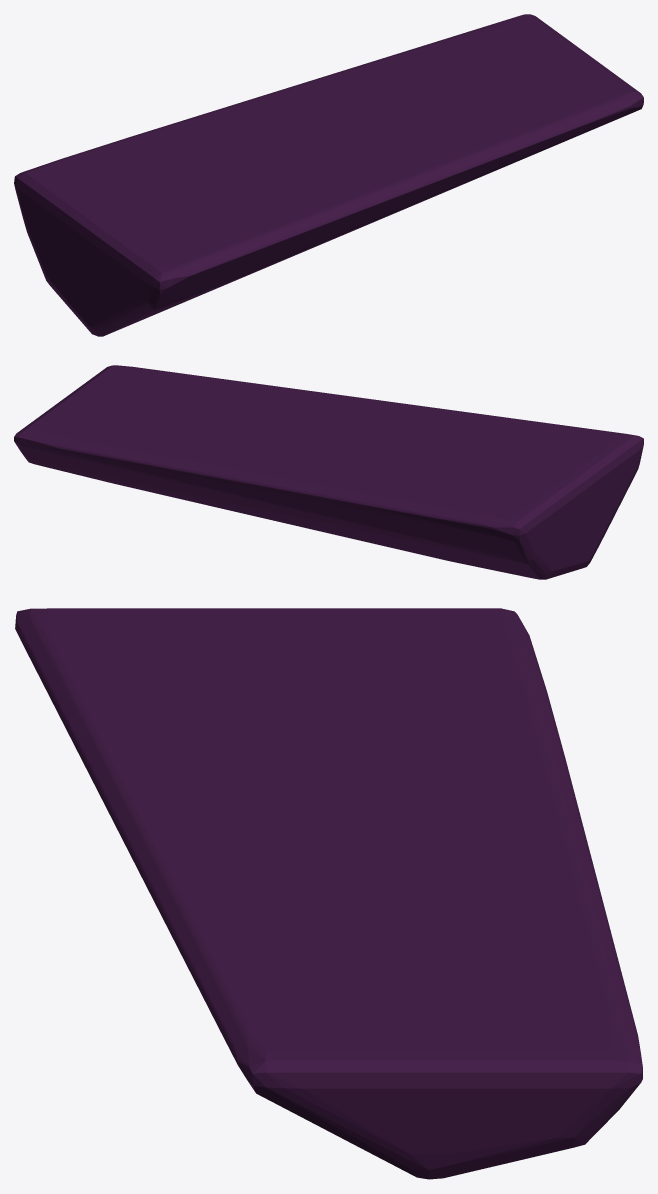
The model's file is right-elbow-0_part_26.obj.
3 views of the same model, one above another, from view 1: azimuth 30°, elevation 25°; view 2: azimuth 150°, elevation 25°; view 3: azimuth 270°, elevation 25° (orthographic). The views are drawn at different scales.
Bounding box in the file's own units: 0.0556 × 0.0103 × 0.0315.
